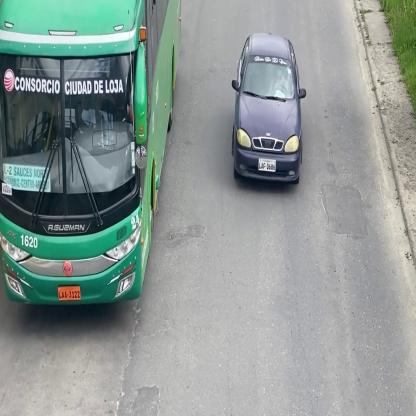Placa: (58, 286, 81, 303), (258, 160, 276, 172)
